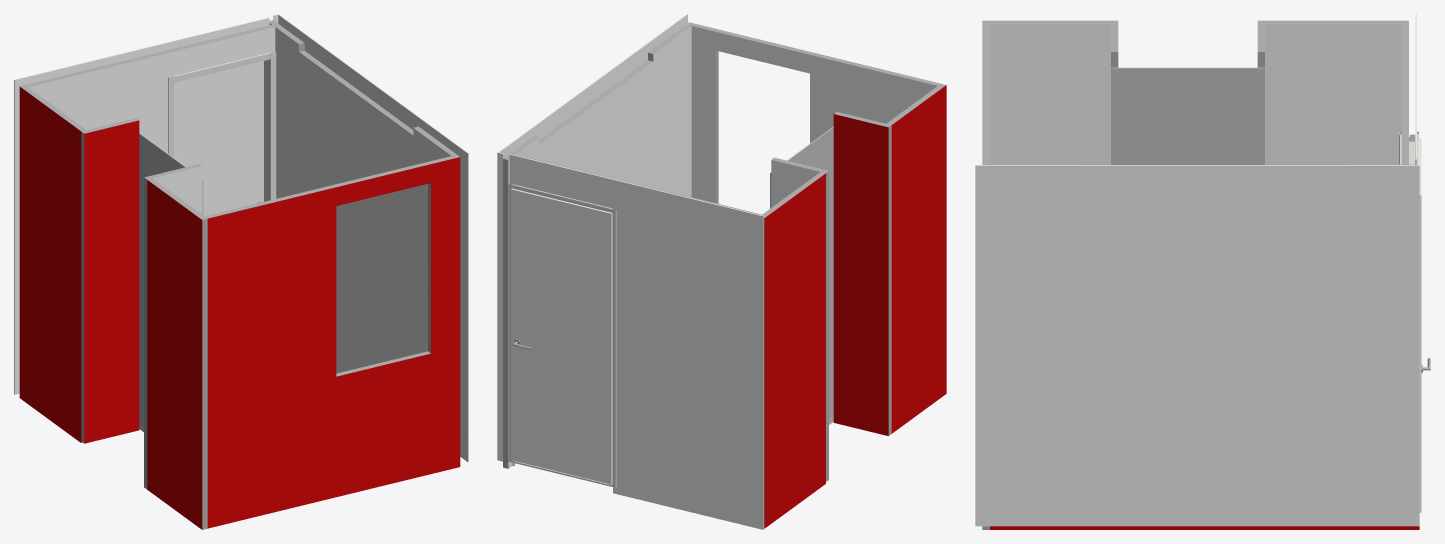
The picture shows the model from 3 angles, left to right: view 1: azimuth 30°, elevation 25°; view 2: azimuth 150°, elevation 25°; view 3: azimuth 270°, elevation 25°; orthographic projection. The views are drawn at different scales.
Parts seen in each view (by area): view 1: [8795733]27_sandwichpaneel badkamer 48,7mm, [8795715]27_sandwichpaneel badkamer 48,7mm, [8795735]27_sandwichpaneel badkamer 48,7mm, [8795716]27_sandwichpaneel badkamer 48,7mm, [8795750]27_sandwichpaneel badkamer 48,7mm, [8795702]merk i, [8795714]27_sandwichpaneel badkamer 48,7mm, [8795734]42_gipsplaat_9,5mm, [8795701]42_gipsplaat_9,5mm, [8795680]27_sandwichpaneel badkamer 48,7mm, [8795731]27_sandwichpaneel badkamer 48,7mm, [8795732]Glaswand (+1 smaller); view 2: [8795701]42_gipsplaat_9,5mm, [8795702]merk i, [8795735]27_sandwichpaneel badkamer 48,7mm, [8795731]27_sandwichpaneel badkamer 48,7mm, [8795716]27_sandwichpaneel badkamer 48,7mm, [8795715]27_sandwichpaneel badkamer 48,7mm, [8795733]27_sandwichpaneel badkamer 48,7mm, [8795734]42_gipsplaat_9,5mm, [8795754]42_gipsplaat_9,5mm, [8795732]Glaswand, [8795750]27_sandwichpaneel badkamer 48,7mm, [8795769]42_gipsplaat_9,5mm; view 3: [8795734]42_gipsplaat_9,5mm, [8795735]27_sandwichpaneel badkamer 48,7mm, [8795716]27_sandwichpaneel badkamer 48,7mm, [8795732]Glaswand, [8795715]27_sandwichpaneel badkamer 48,7mm, [8795702]merk i, [8795733]27_sandwichpaneel badkamer 48,7mm, [8795714]27_sandwichpaneel badkamer 48,7mm.
Boxes of the visible parts, box(x1,y1,x2,y2) form: [8795733]27_sandwichpaneel badkamer 48,7mm: box(205, 155, 460, 528); [8795715]27_sandwichpaneel badkamer 48,7mm: box(269, 20, 456, 373); [8795735]27_sandwichpaneel badkamer 48,7mm: box(19, 85, 86, 442); [8795716]27_sandwichpaneel badkamer 48,7mm: box(147, 178, 207, 529); [8795750]27_sandwichpaneel badkamer 48,7mm: box(81, 118, 139, 443); [8795702]merk i: box(167, 51, 276, 216); [8795714]27_sandwichpaneel badkamer 48,7mm: box(25, 50, 169, 152); [8795734]42_gipsplaat_9,5mm: box(278, 14, 468, 462); [8795701]42_gipsplaat_9,5mm: box(14, 43, 165, 394); [8795680]27_sandwichpaneel badkamer 48,7mm: box(167, 25, 275, 82); [8795731]27_sandwichpaneel badkamer 48,7mm: box(144, 164, 202, 489); [8795732]Glaswand: box(139, 133, 203, 426); [8795701]42_gipsplaat_9,5mm: box(613, 179, 763, 529); [8795702]merk i: box(508, 183, 616, 487); [8795735]27_sandwichpaneel badkamer 48,7mm: box(761, 172, 825, 528); [8795731]27_sandwichpaneel badkamer 48,7mm: box(833, 112, 891, 435); [8795716]27_sandwichpaneel badkamer 48,7mm: box(886, 83, 946, 433); [8795715]27_sandwichpaneel badkamer 48,7mm: box(503, 24, 691, 468); [8795733]27_sandwichpaneel badkamer 48,7mm: box(686, 22, 940, 203); [8795734]42_gipsplaat_9,5mm: box(497, 14, 687, 460); [8795754]42_gipsplaat_9,5mm: box(509, 154, 612, 208); [8795732]Glaswand: box(770, 126, 833, 418); [8795750]27_sandwichpaneel badkamer 48,7mm: box(771, 157, 828, 481); [8795769]42_gipsplaat_9,5mm: box(498, 152, 503, 461); [8795734]42_gipsplaat_9,5mm: box(975, 165, 1419, 526); [8795735]27_sandwichpaneel badkamer 48,7mm: box(1265, 20, 1408, 164); [8795716]27_sandwichpaneel badkamer 48,7mm: box(982, 20, 1110, 164); [8795732]Glaswand: box(1111, 67, 1264, 164); [8795715]27_sandwichpaneel badkamer 48,7mm: box(990, 164, 1419, 529); [8795702]merk i: box(1399, 131, 1430, 512); [8795733]27_sandwichpaneel badkamer 48,7mm: box(982, 24, 989, 529); [8795714]27_sandwichpaneel badkamer 48,7mm: box(1401, 24, 1408, 104).
Bounding box in the file's own units: 2.37 × 2.69 × 3.01.
